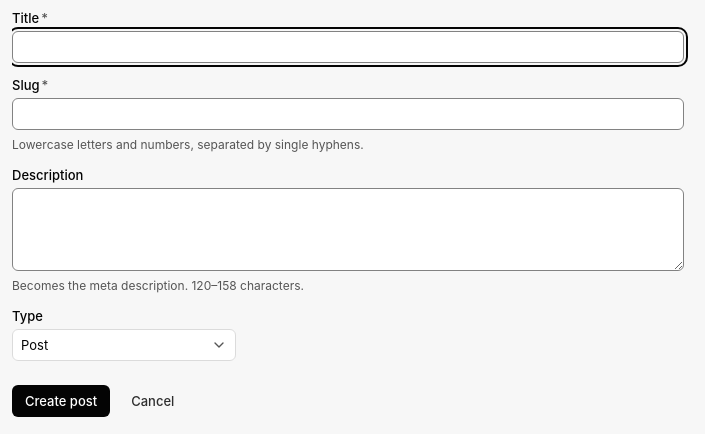
NewDocumentForm › the slug › follows the title until the author takes it over
Type "Héllo, World!" into the field labelled "Title*".
click(348, 47); type("Héllo, World!")  # box [12,31,684,63]
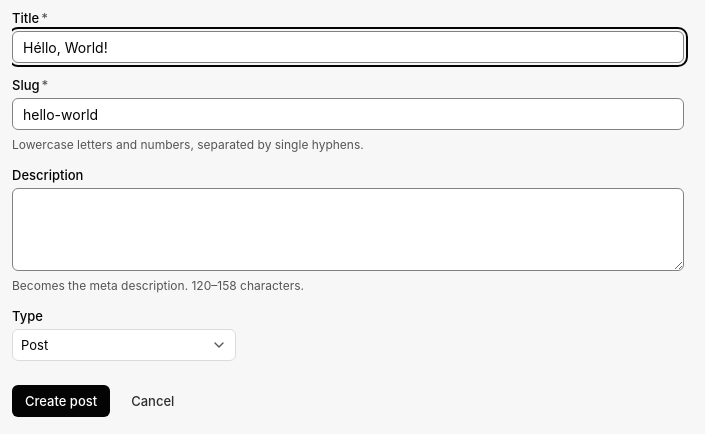
Now the field labelled "Slug*" holds "hello-world", box [12,98,684,130]
